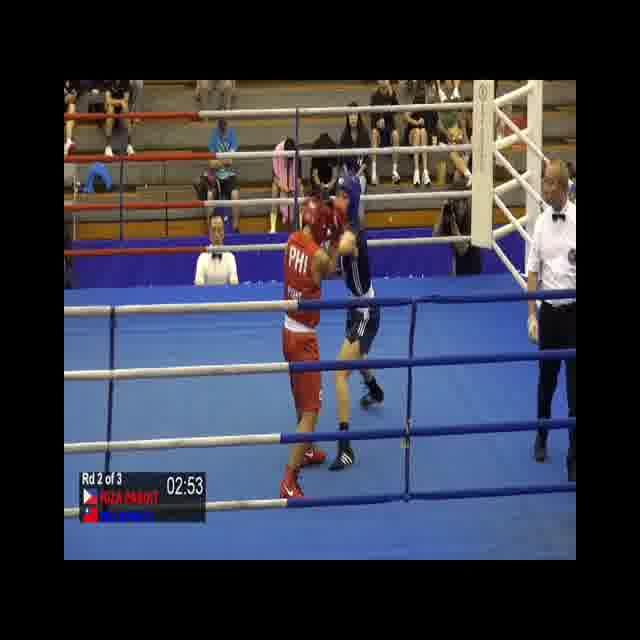blue-player: (318, 173, 389, 476)
red-player: (274, 192, 344, 508)
referee: (522, 156, 575, 486)
